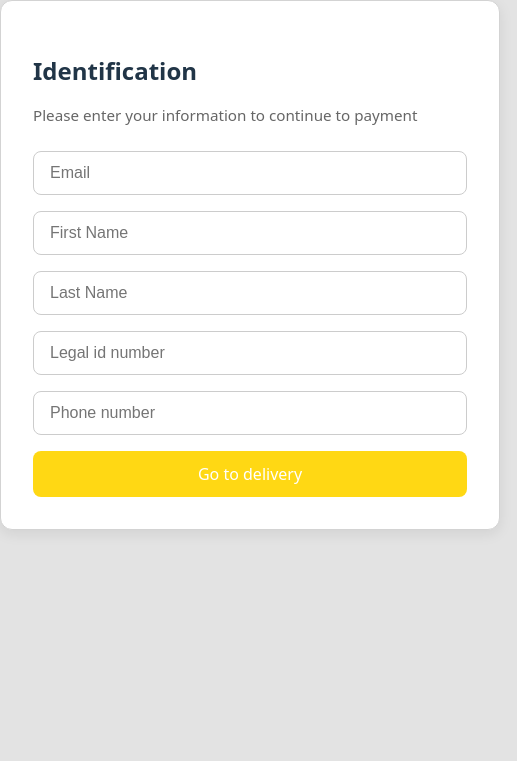
Scenario: CustomerForm › Field Validations › should show error when email format is invalid
The image size is (517, 761).
Type "invalid-email" into the field with placeholder "Email" at x=250, y=173, box [33,151,467,195]
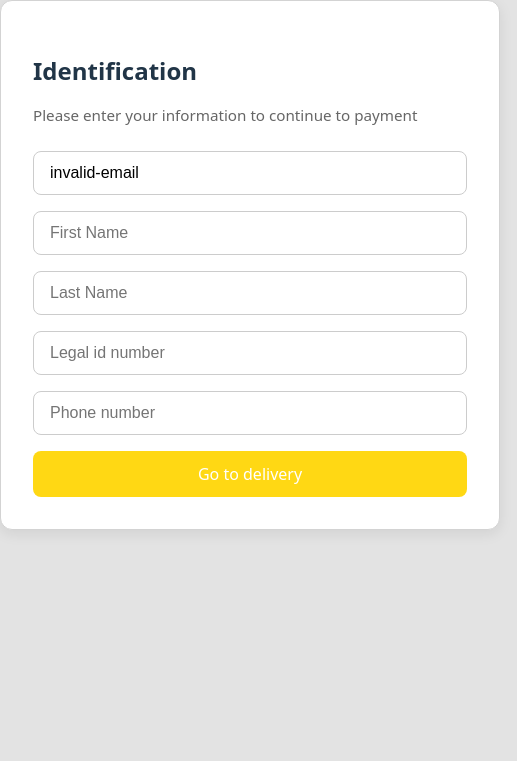
Click the button "Go to delivery" at x=250, y=474, box [33,451,467,497]
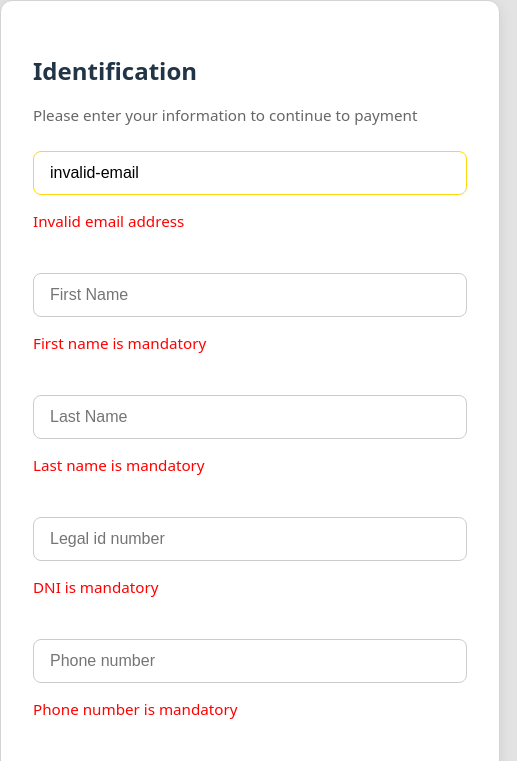
Expected: the text "Invalid email address" is shown, [33,211,184,231]
